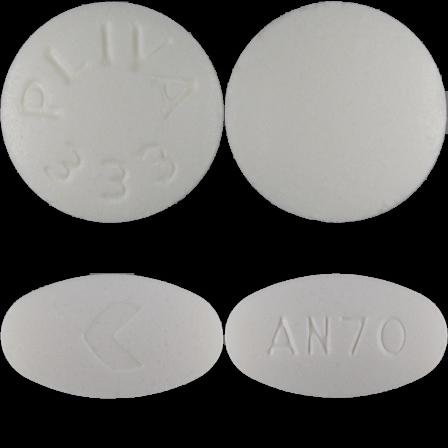55695-011: (0, 0, 224, 224)
